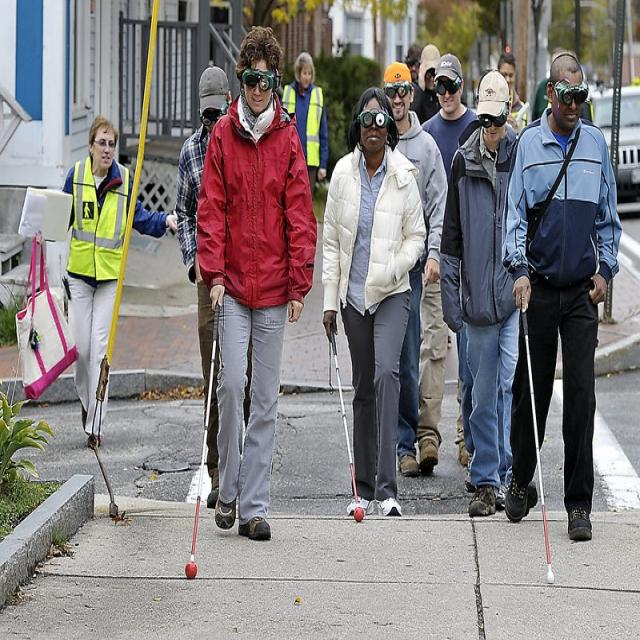body: (190, 18, 322, 539), (494, 44, 625, 547), (15, 116, 178, 454), (435, 64, 542, 524), (318, 82, 429, 520), (173, 63, 254, 511), (382, 59, 450, 475), (416, 51, 480, 476), (398, 40, 606, 159), (279, 50, 329, 198)
